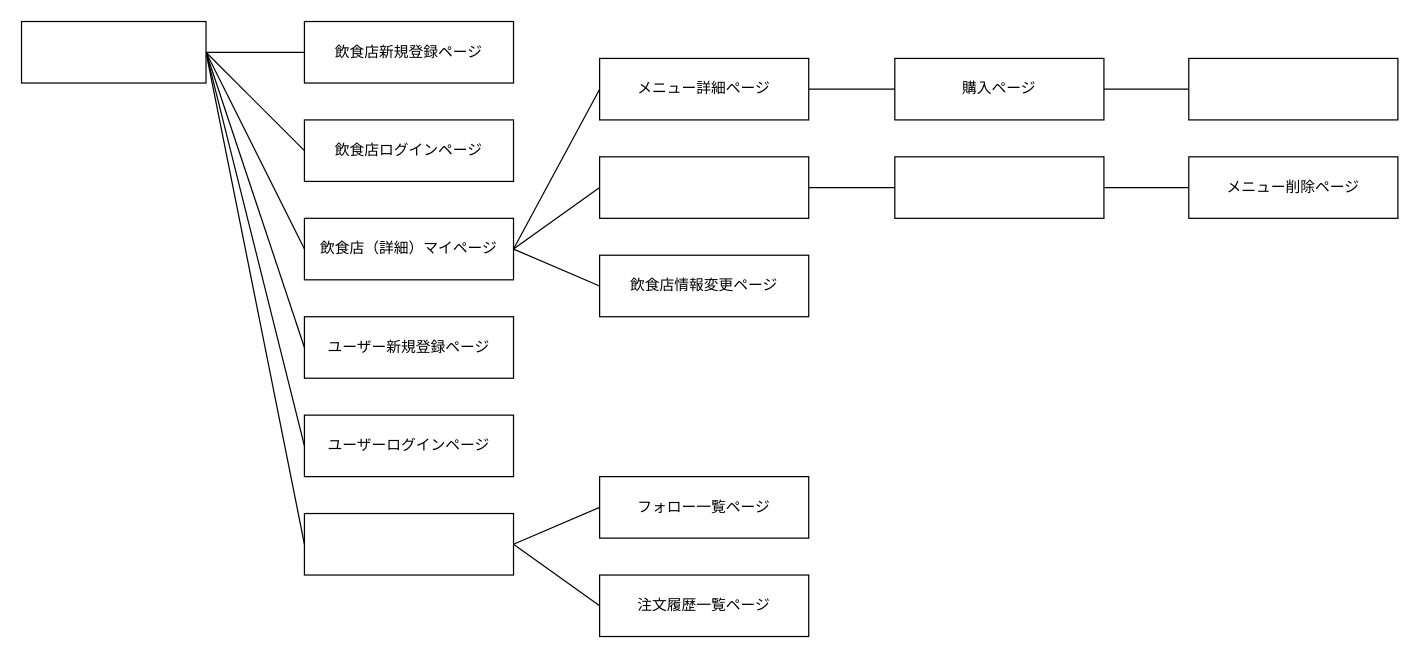
Some shapes in this 1419 by 658 pixel diagram are drawn without their labels. Each missing label, with the centre of its shape:
トップページ （飲食店一覧ページ）: the point at 113,51
メニュー投稿ページ: the point at 703,187
メニュー編集ページ: the point at 999,187
ユーザーマイページ: the point at 408,543
購入完了ページ: the point at 1293,88
